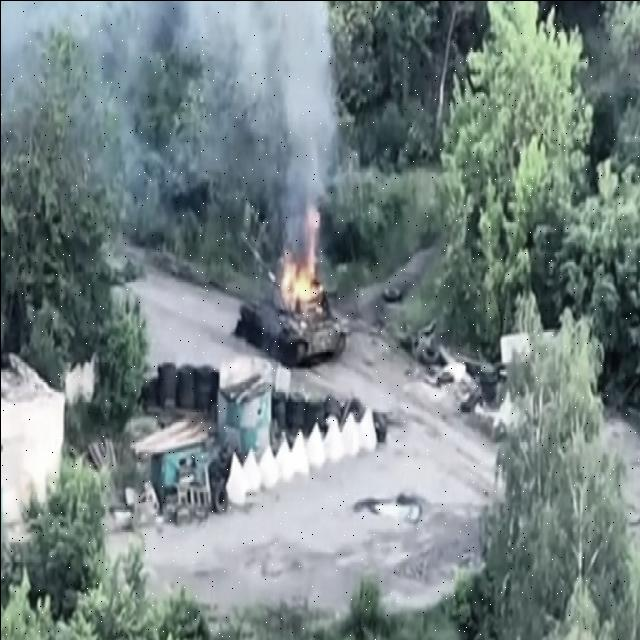TANK: (234, 222, 346, 368)
